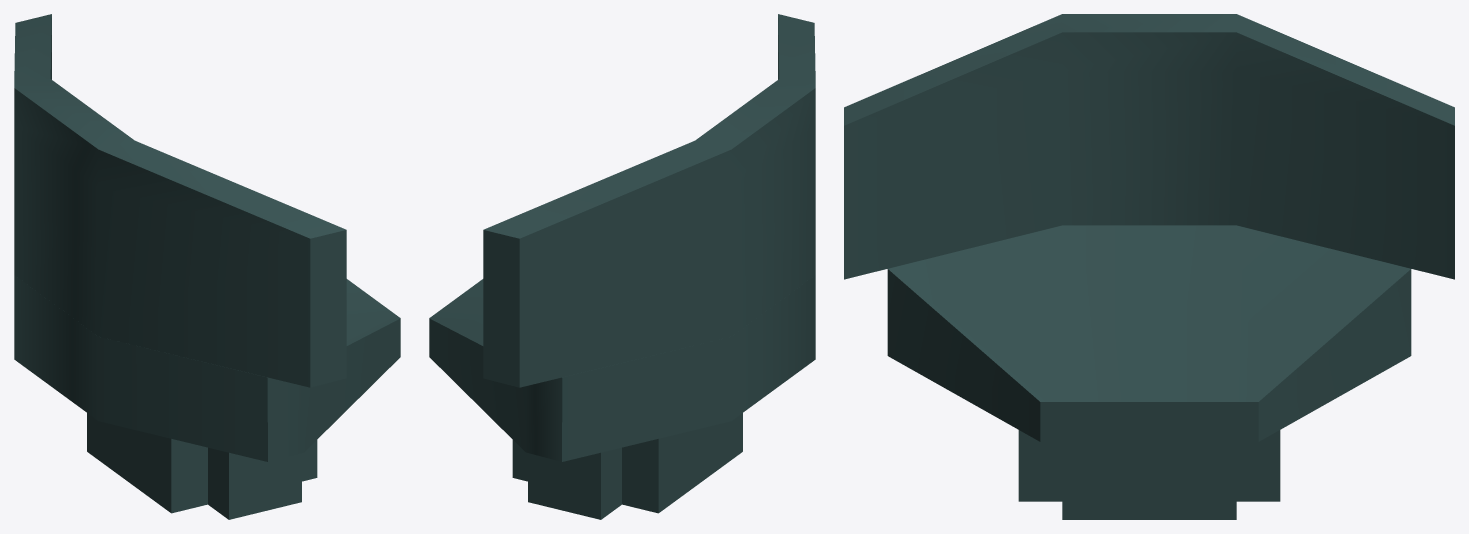
Rendered from SM_Monitor.fbx.
3 renders of one model, left to right at view 1: azimuth 30°, elevation 25°; view 2: azimuth 150°, elevation 25°; view 3: azimuth 270°, elevation 25°, orthographic. The views are drawn at different scales.
Parts seen in each view (by area): view 1: SM_Monitor; view 2: SM_Monitor; view 3: SM_Monitor.
Boxes of the visible parts, x1,y1,x2,y2 form: SM_Monitor: (14,14,400,519); SM_Monitor: (429,14,815,519); SM_Monitor: (844,14,1454,519).
Bounding box in the file's own units: 2 × 3.5 × 2.5.
